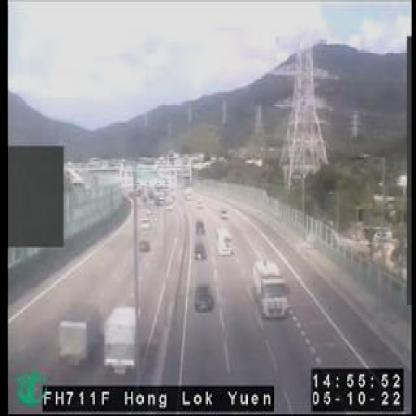Car: (214, 225, 232, 253), (194, 282, 213, 308), (192, 243, 207, 258), (192, 218, 206, 234), (138, 237, 149, 252)
Truck: (104, 305, 139, 373), (59, 303, 96, 366), (251, 258, 285, 316)
